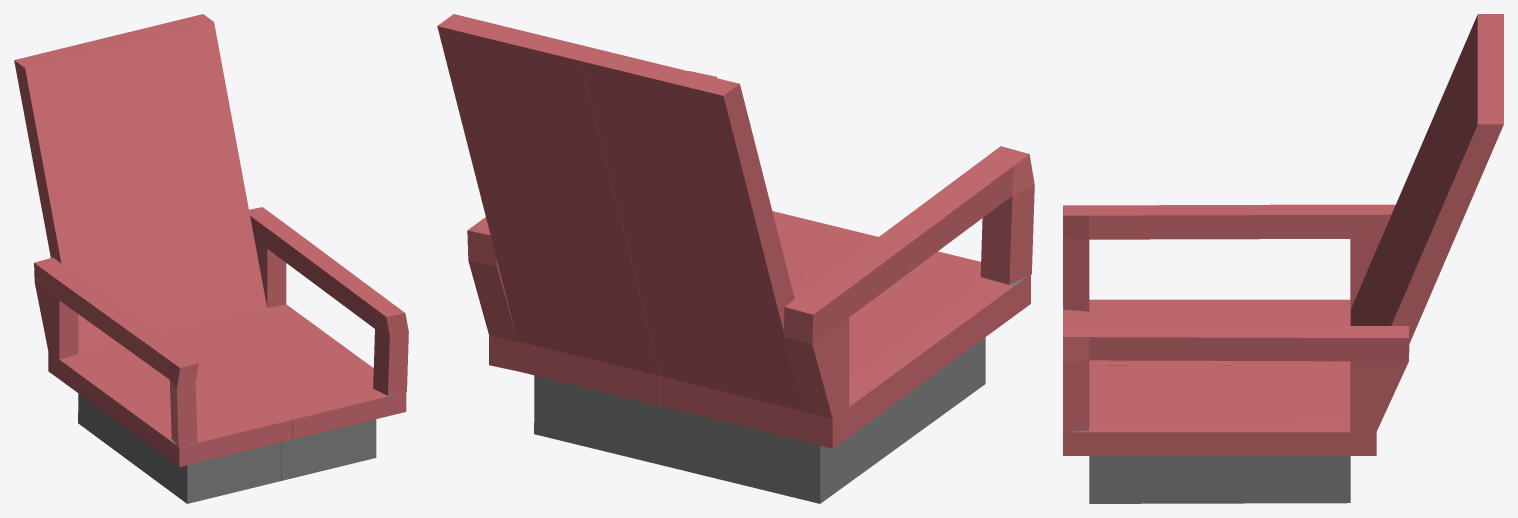
File: isu2.fbx
3 views of the same model, side by side, from view 1: azimuth 30°, elevation 25°; view 2: azimuth 150°, elevation 25°; view 3: azimuth 270°, elevation 25° (orthographic). The views are drawn at different scales.
Visible parts, largest first — view 1: Cube; view 2: Cube; view 3: Cube.
Boxes of the visible parts, left/top/right/bottom form: Cube: left=14, top=14, right=408, bottom=503; Cube: left=437, top=14, right=1034, bottom=503; Cube: left=1063, top=14, right=1503, bottom=503.
Bounding box in the file's own units: 246 × 321 × 338.
